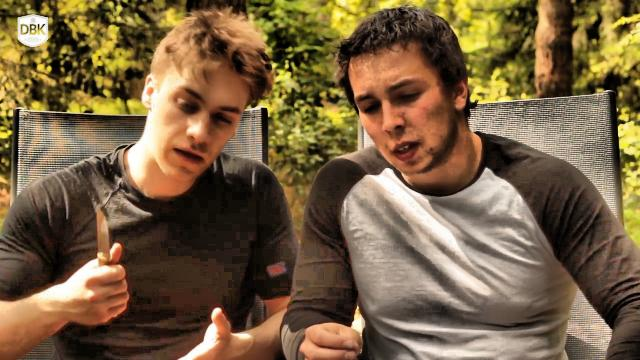knife: (87, 192, 133, 308)
